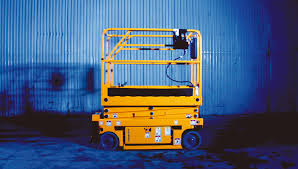Scissor Lift: (89, 26, 205, 153)
